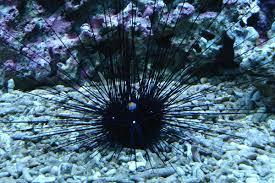urchin: (22, 9, 246, 178)
